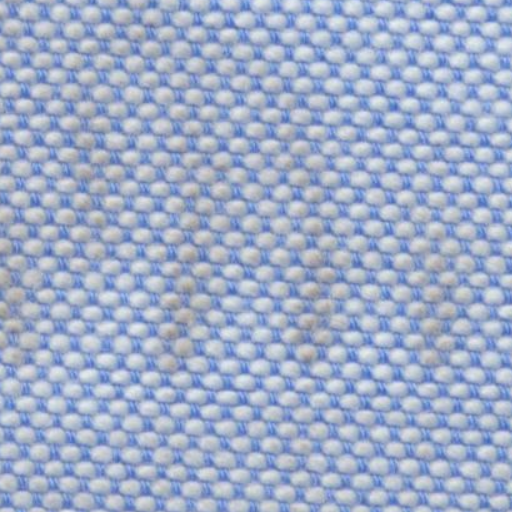WuZi: (8, 8, 489, 372)
